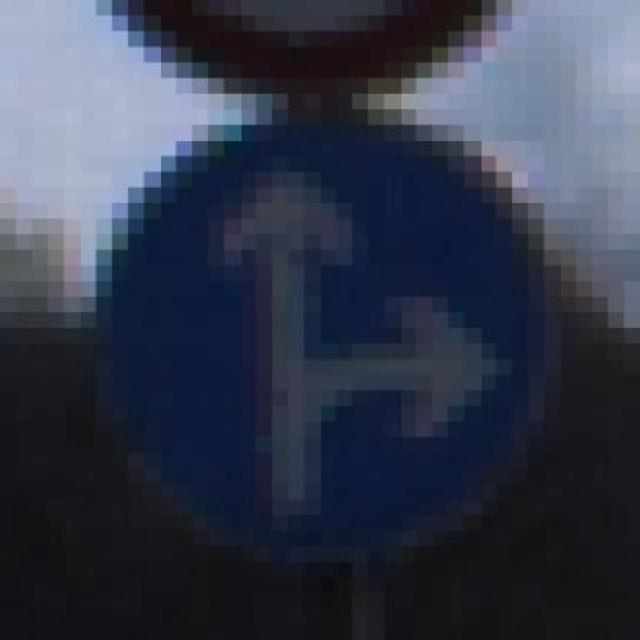Go Straight or Turn Right: (64, 93, 608, 578)
